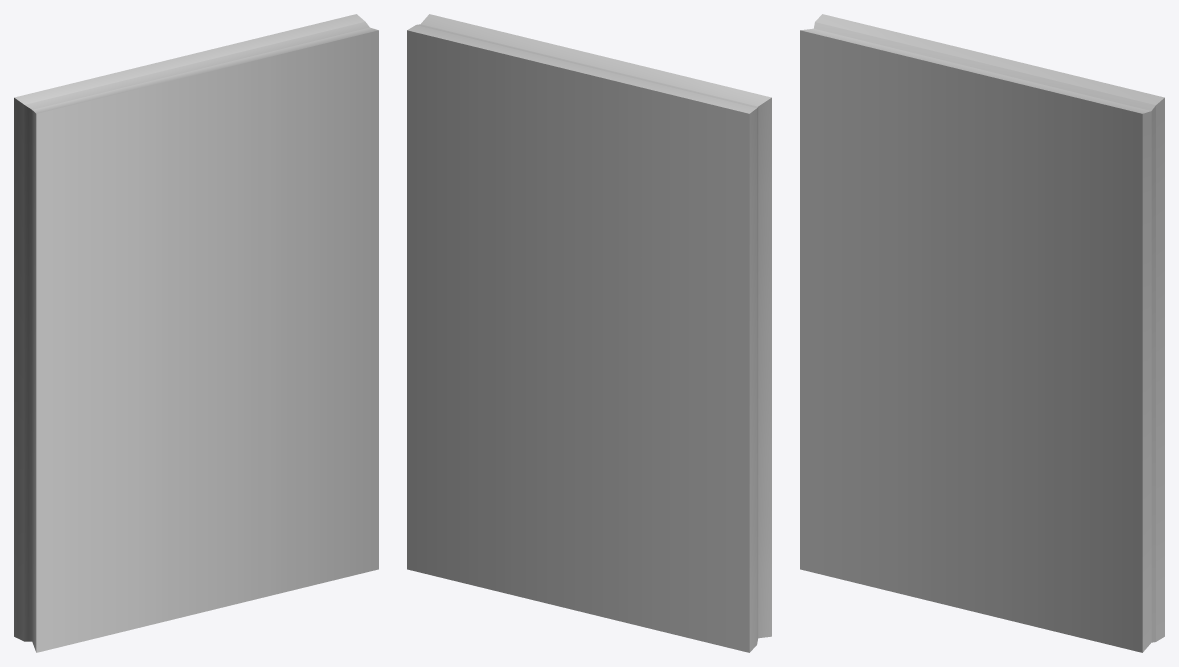
Rendered from CR_Paper_001.FBX.
The picture shows the model from 3 angles, left to right: view 1: azimuth 30°, elevation 25°; view 2: azimuth 150°, elevation 25°; view 3: azimuth 330°, elevation 25°; orthographic projection.
Parts seen in each view (by area): view 1: CR_Paper_001; view 2: CR_Paper_001; view 3: CR_Paper_001.
Boxes of the visible parts, box(x1,y1,x2,y2) form: CR_Paper_001: box(14, 14, 378, 652); CR_Paper_001: box(407, 14, 771, 652); CR_Paper_001: box(800, 14, 1164, 652).
Size of the model in its own units: 13.41 by 20.17 by 1.51.
1 material, 1 textured.
